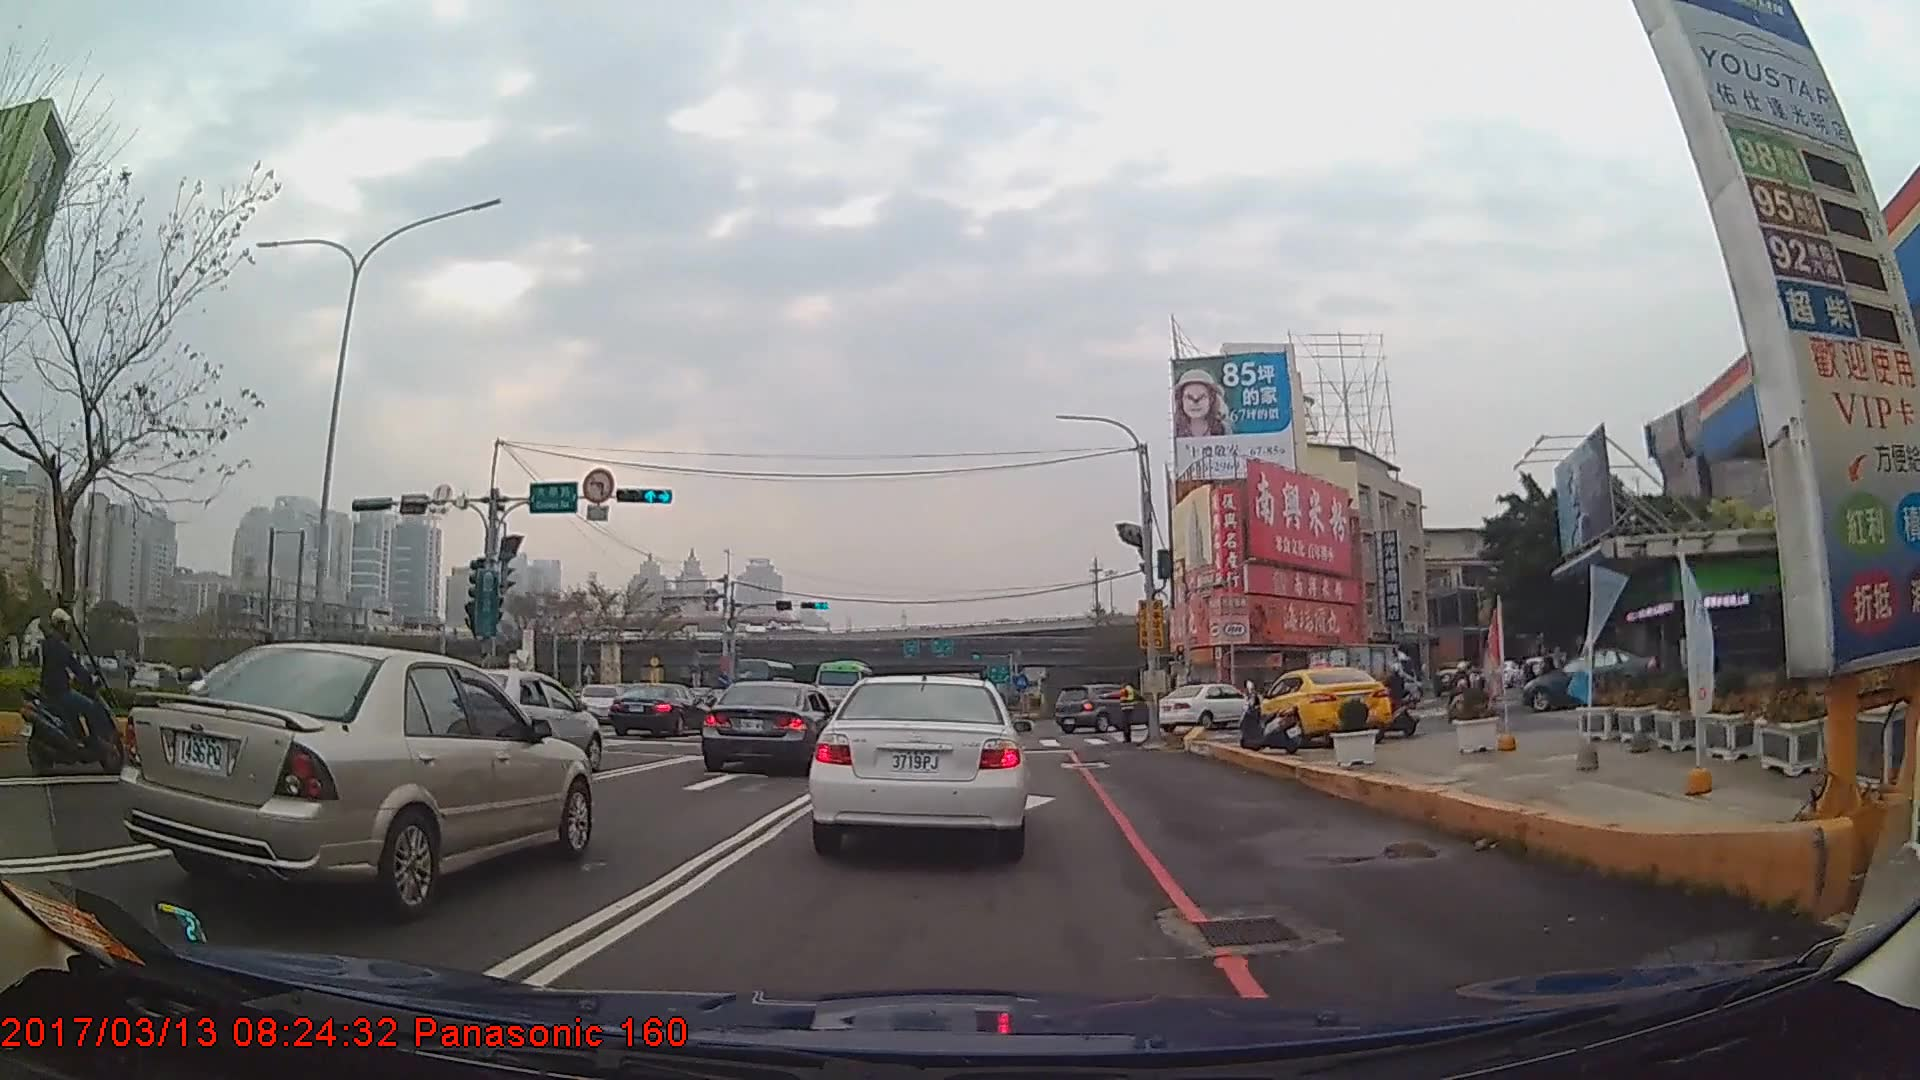pedestrian: (1103, 677, 1136, 745)
rider: (22, 612, 118, 779), (1376, 664, 1419, 739), (1447, 658, 1472, 721)
vehicle: (121, 642, 596, 916), (810, 667, 1028, 856), (697, 678, 838, 776), (1251, 663, 1393, 747), (1518, 648, 1660, 712), (1300, 641, 1417, 711), (1148, 680, 1259, 729), (1052, 682, 1161, 731), (609, 680, 704, 734), (810, 658, 874, 715)
